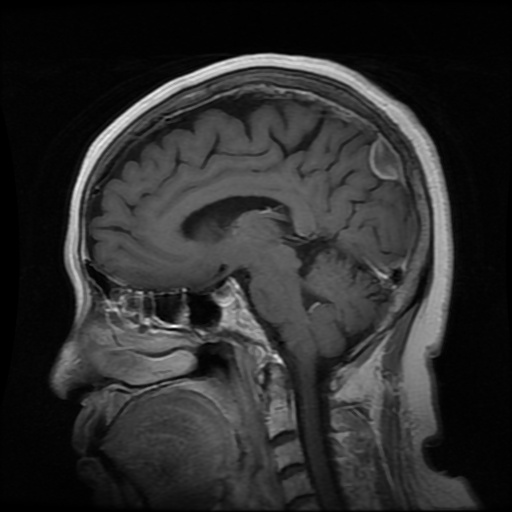meningioma: (369, 136, 402, 180)
